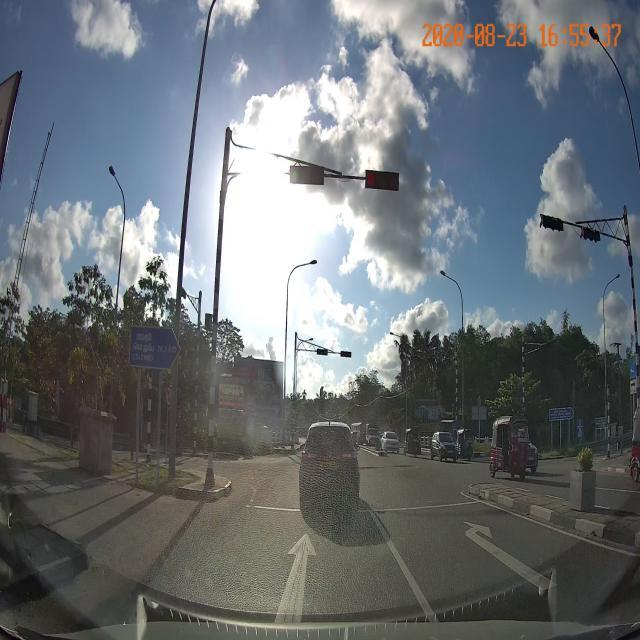forward: (154, 519, 433, 614)
right: (375, 504, 637, 623)
